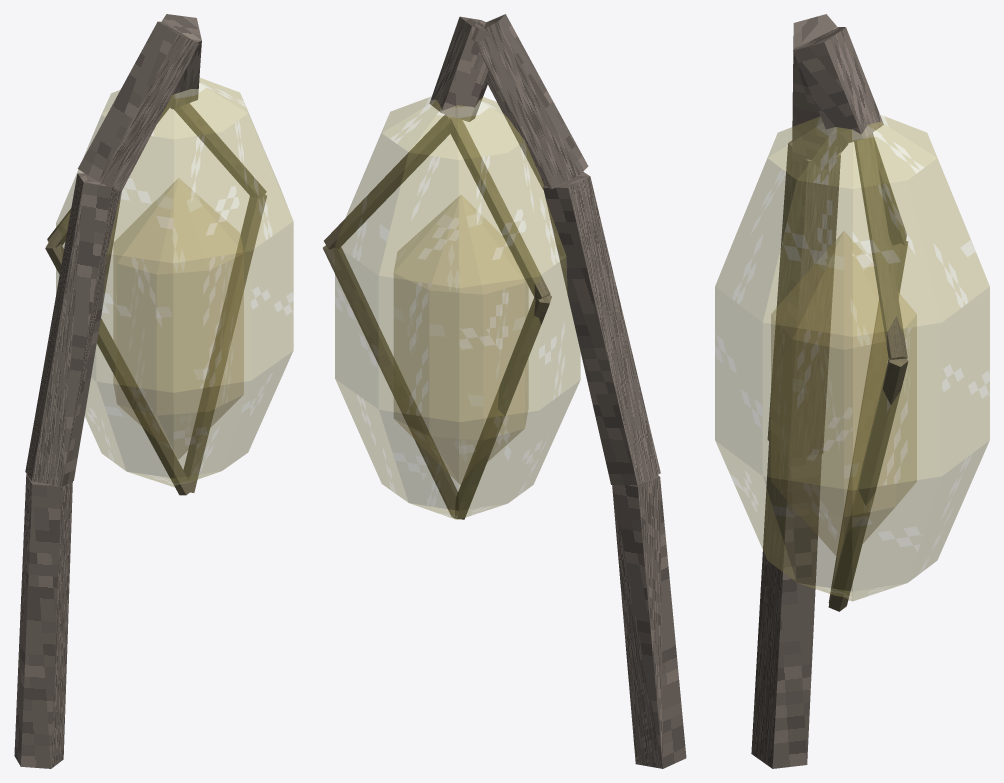
File: f_alien_pod_resin.glb
3 views of the same model, side by side, from view 1: azimuth 30°, elevation 25°; view 2: azimuth 150°, elevation 25°; view 3: azimuth 270°, elevation 25° (orthographic). The views are drawn at different scales.
Parts seen in each view (by area): view 1: block_translucent-pod-membrane, block_clear-resin-core, block_arched-suspension-stalk-2, block_arched-suspension-stalk-1, block_arched-suspension-stalk-3, block_membrane-vein-2 (×2), block_membrane-vein-1, block_arched-suspension-stalk-4; view 2: block_translucent-pod-membrane, block_clear-resin-core, block_arched-suspension-stalk-2, block_arched-suspension-stalk-1, block_membrane-vein-2 (×2), block_arched-suspension-stalk-3, block_membrane-vein-1 (×2), block_arched-suspension-stalk-4; view 3: block_translucent-pod-membrane, block_clear-resin-core, block_arched-suspension-stalk-1, block_arched-suspension-stalk-2, block_membrane-vein-2 (×2), block_arched-suspension-stalk-4, block_membrane-vein-1 (×2), block_arched-suspension-stalk-3.
Part boxes in pixels (<box>): block_translucent-pod-membrane: <box>56,78,293,487</box>; block_clear-resin-core: <box>113,178,243,458</box>; block_arched-suspension-stalk-2: <box>25,173,121,486</box>; block_arched-suspension-stalk-1: <box>14,474,72,768</box>; block_arched-suspension-stalk-3: <box>78,21,198,191</box>; block_membrane-vein-2 (×2): <box>45,195,266,495</box>; block_membrane-vein-1: <box>174,103,266,198</box>; block_arched-suspension-stalk-4: <box>161,14,201,109</box>; block_translucent-pod-membrane: <box>335,96,580,519</box>; block_clear-resin-core: <box>394,195,528,484</box>; block_arched-suspension-stalk-2: <box>543,171,660,485</box>; block_arched-suspension-stalk-1: <box>612,475,686,768</box>; block_membrane-vein-2 (×2): <box>323,245,551,519</box>; block_arched-suspension-stalk-3: <box>476,14,588,189</box>; block_membrane-vein-1 (×2): <box>324,114,550,300</box>; block_arched-suspension-stalk-4: <box>429,16,492,121</box>; block_translucent-pod-membrane: <box>715,114,989,601</box>; block_clear-resin-core: <box>771,231,916,558</box>; block_arched-suspension-stalk-1: <box>751,441,821,768</box>; block_arched-suspension-stalk-2: <box>767,140,840,458</box>; block_membrane-vein-2 (×2): <box>828,241,908,611</box>; block_arched-suspension-stalk-4: <box>793,27,883,146</box>; block_membrane-vein-1 (×2): <box>854,133,907,359</box>; block_arched-suspension-stalk-3: <box>792,14,847,169</box>.
Bounding box in the file's own units: 0.582 × 1.29 × 0.3915.
2 materials, 2 textured.
